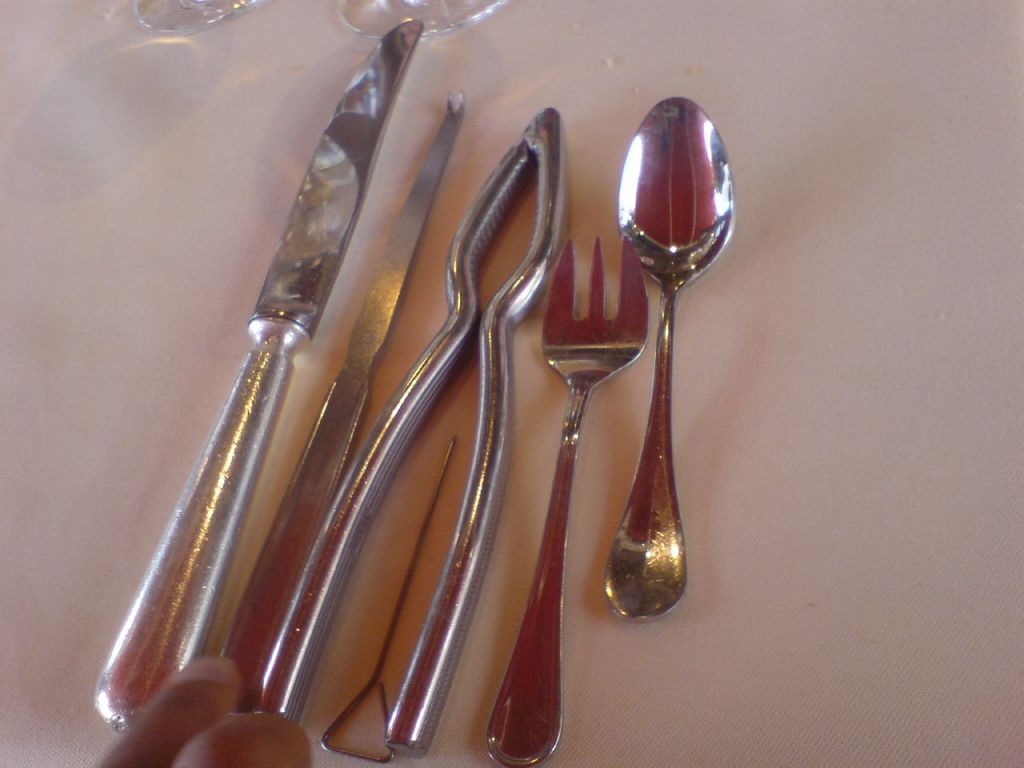fork: (485, 235, 649, 767)
